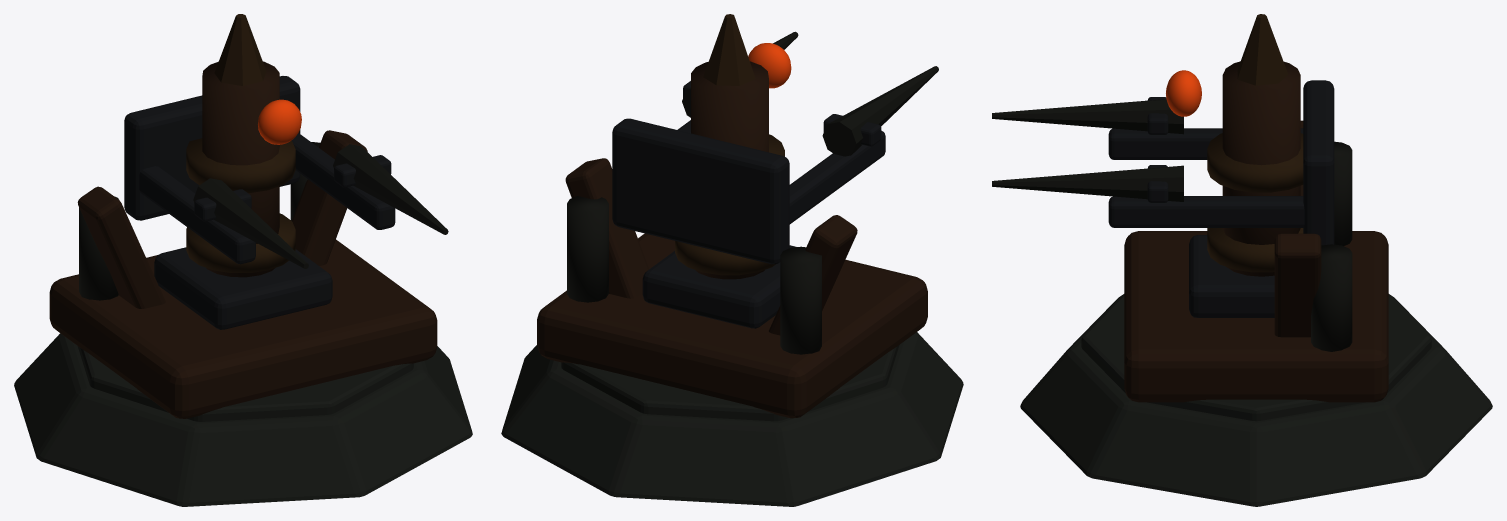
The model's file is TowerAir3.obj.
3 views of the same model, side by side, from view 1: azimuth 30°, elevation 25°; view 2: azimuth 150°, elevation 25°; view 3: azimuth 270°, elevation 25° (orthographic).
Visible parts, largest first — view 1: cut_stone_socket_lower_course, oak_sky_platform, iron_mast_socket, oak_launch_mast, iron_wind_shroud, cut_stone_socket_upper_course, oak_angled_stay, oak_angled_stay.001, iron_sky_rail, bronze_guide_collar.001, iron_sky_rail.001, sky_lance.001 (+7 smaller); view 2: cut_stone_socket_lower_course, oak_sky_platform, iron_wind_shroud, iron_mast_socket, cut_stone_socket_upper_course, oak_launch_mast, reserve_lance_tube, reserve_lance_tube.001, oak_angled_stay.001, iron_sky_rail, sky_lance, oak_angled_stay (+4 smaller); view 3: cut_stone_socket_lower_course, oak_sky_platform, oak_launch_mast, cut_stone_socket_upper_course, iron_sky_rail.001, iron_wind_shroud, iron_mast_socket, oak_angled_stay.001, reserve_lance_tube.001, sky_lance.001, sky_lance, bronze_guide_collar.001 (+5 smaller).
Boxes of the visible parts, x1,y1,x2,y2 form: cut_stone_socket_lower_course: [14, 333, 472, 506]; oak_sky_platform: [49, 239, 437, 418]; iron_mast_socket: [154, 247, 332, 329]; oak_launch_mast: [202, 61, 279, 277]; iron_wind_shroud: [124, 76, 300, 220]; cut_stone_socket_upper_course: [77, 346, 413, 421]; oak_angled_stay: [77, 186, 165, 308]; oak_angled_stay.001: [292, 130, 367, 265]; iron_sky_rail: [139, 166, 255, 264]; bronze_guide_collar.001: [186, 138, 295, 192]; iron_sky_rail.001: [291, 133, 395, 229]; sky_lance.001: [333, 144, 448, 234]; cut_stone_socket_lower_course: [501, 332, 963, 506]; oak_sky_platform: [537, 233, 927, 418]; iron_wind_shroud: [612, 118, 789, 264]; iron_mast_socket: [642, 245, 796, 328]; cut_stone_socket_upper_course: [561, 345, 899, 421]; oak_launch_mast: [691, 61, 768, 279]; reserve_lance_tube: [780, 246, 821, 354]; reserve_lance_tube.001: [567, 196, 608, 302]; oak_angled_stay.001: [565, 158, 649, 298]; iron_sky_rail: [789, 130, 885, 224]; sky_lance: [822, 66, 938, 156]; oak_angled_stay: [769, 215, 857, 335]; cut_stone_socket_lower_course: [1020, 295, 1492, 506]; oak_sky_platform: [1124, 231, 1388, 402]; oak_launch_mast: [1222, 61, 1300, 276]; cut_stone_socket_upper_course: [1081, 294, 1431, 421]; iron_sky_rail.001: [1108, 196, 1304, 227]; iron_wind_shroud: [1303, 80, 1334, 245]; iron_mast_socket: [1189, 235, 1274, 317]; oak_angled_stay.001: [1274, 233, 1321, 337]; reserve_lance_tube.001: [1311, 244, 1352, 351]; sky_lance.001: [992, 165, 1183, 201]; sky_lance: [992, 99, 1183, 134]; bronze_guide_collar.001: [1207, 133, 1303, 192].
Size of the model in its own units: 1.82 by 1.67 by 1.93.
